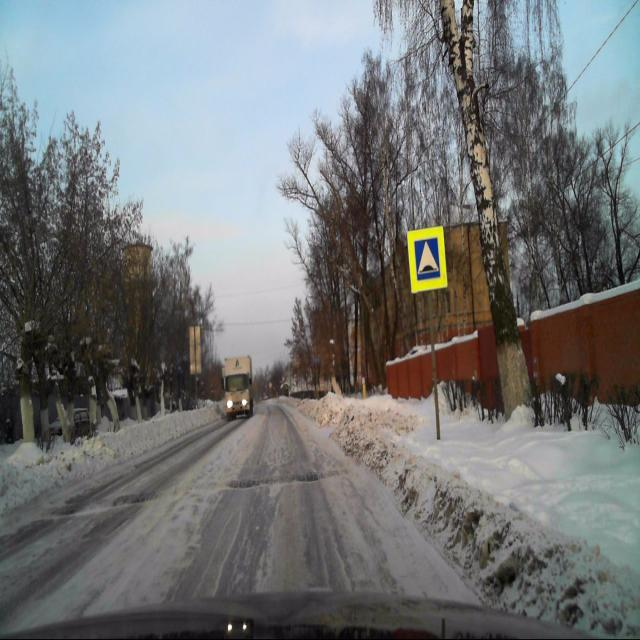object: (425, 292, 441, 444)
road sign: (408, 225, 449, 294)
